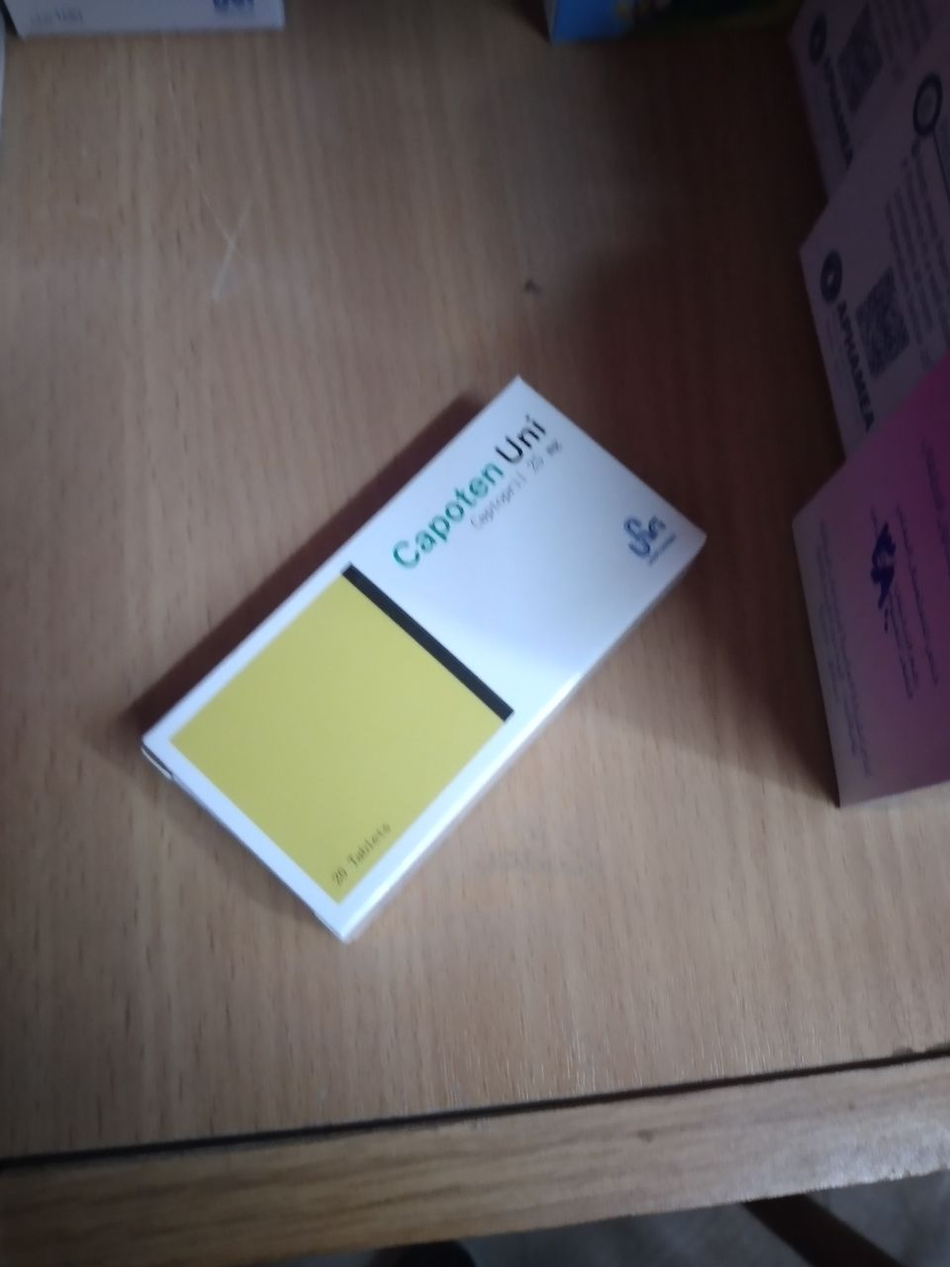Medicine: (129, 363, 706, 960), (772, 376, 950, 812), (772, 36, 950, 406)
